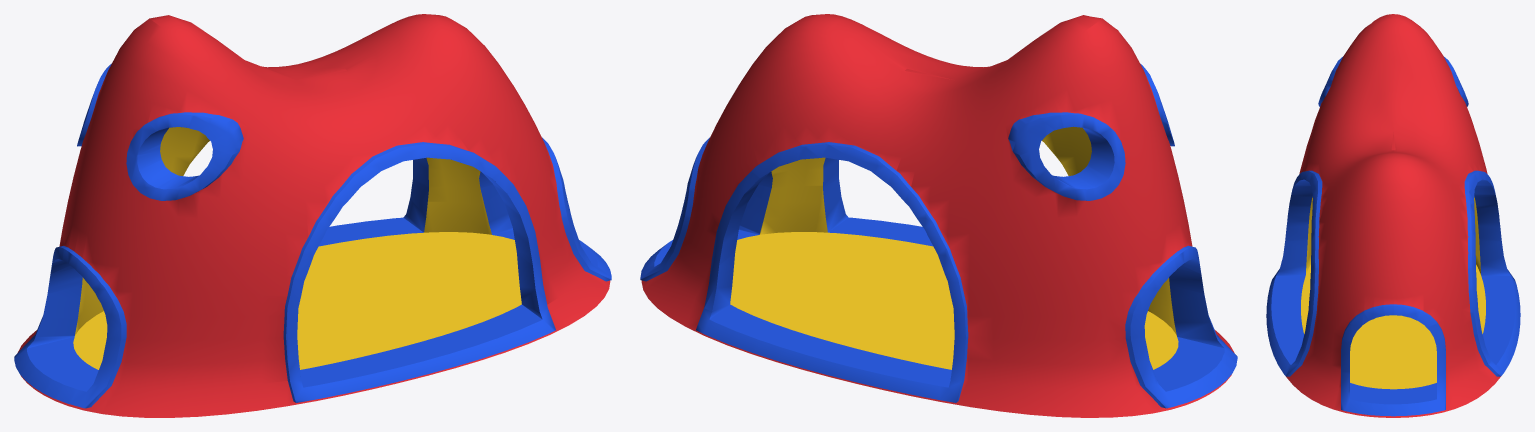
File: adobe_08_gentle_beast.glb
The picture shows the model from 3 angles, left to right: view 1: azimuth 30°, elevation 25°; view 2: azimuth 150°, elevation 25°; view 3: azimuth 270°, elevation 25°; orthographic projection. The views are drawn at different scales.
Visible parts, largest first — view 1: 08 • Gentle Beast / Animal Adobe House; view 2: 08 • Gentle Beast / Animal Adobe House; view 3: 08 • Gentle Beast / Animal Adobe House.
Part boxes in pixels (box(x1,y1,x2,y2)): 08 • Gentle Beast / Animal Adobe House: box(14, 14, 611, 417); 08 • Gentle Beast / Animal Adobe House: box(640, 14, 1237, 417); 08 • Gentle Beast / Animal Adobe House: box(1266, 14, 1520, 417).
Bounding box in the file's own units: 7.64 × 4.4 × 4.08.
